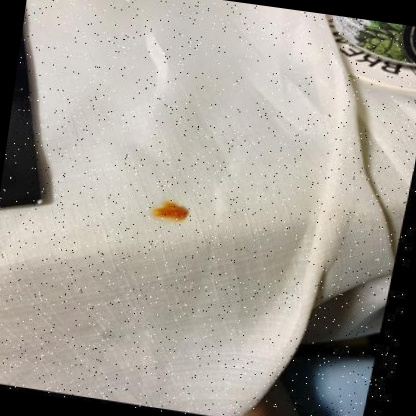kimchi: (145, 195, 192, 226)
